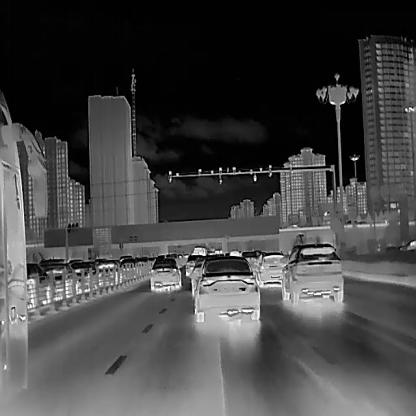bus: (0, 87, 47, 404), (193, 245, 203, 254), (202, 244, 209, 255), (214, 249, 218, 254)
car: (187, 254, 261, 322), (278, 240, 343, 304), (43, 259, 78, 296), (148, 252, 180, 292), (255, 251, 288, 287), (25, 262, 54, 302), (73, 262, 98, 288), (190, 258, 206, 296), (98, 259, 121, 284), (241, 249, 261, 274), (119, 256, 140, 277), (185, 255, 202, 278), (398, 238, 415, 249)
